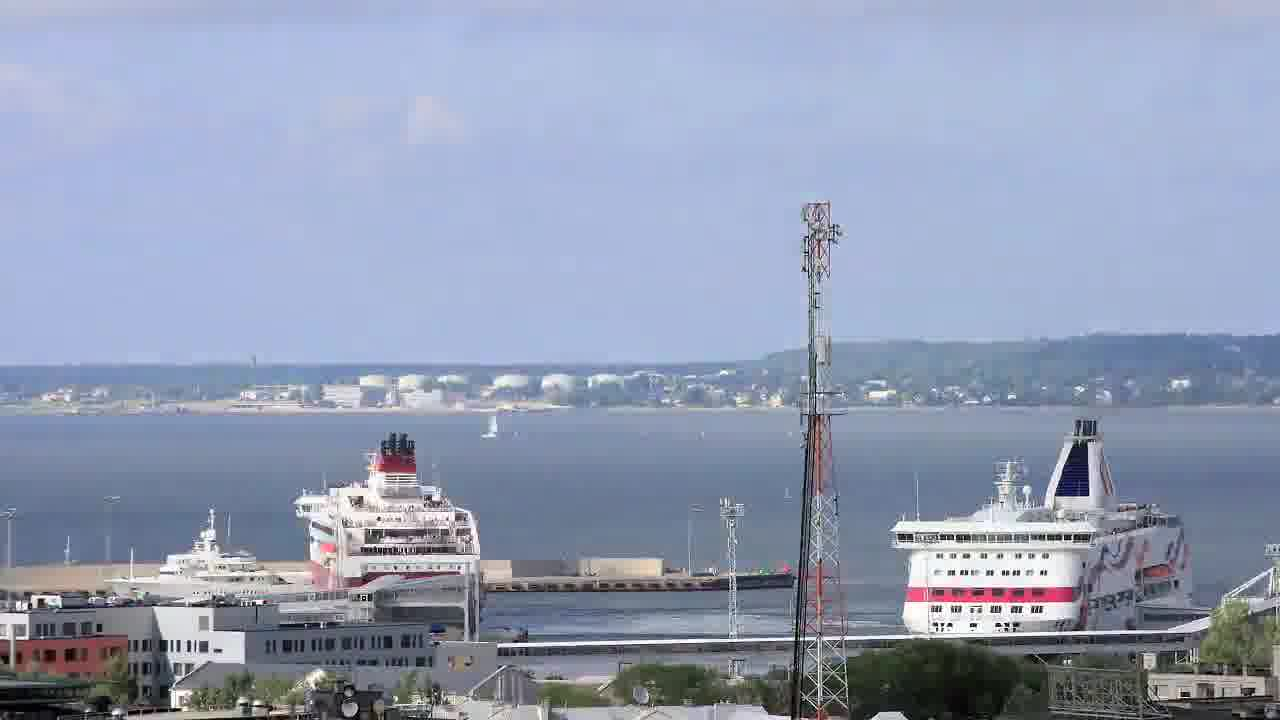type-2: (467, 397, 522, 454)
type-3: (868, 415, 1225, 638), (282, 429, 490, 625), (89, 527, 318, 613)
